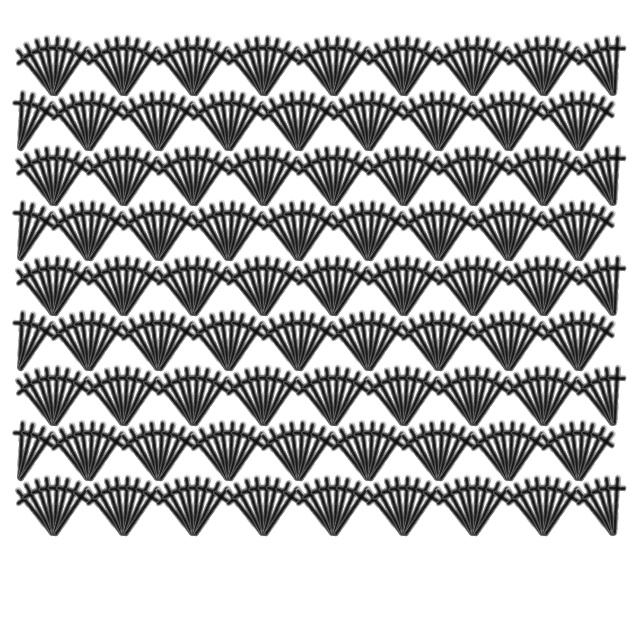enseble_chain: (3, 36, 68, 108), (40, 36, 105, 108), (73, 36, 138, 108), (110, 36, 175, 108), (143, 36, 208, 108), (180, 36, 245, 108), (213, 36, 278, 108), (250, 36, 315, 108), (283, 36, 348, 108), (320, 36, 385, 108), (353, 36, 418, 108), (390, 36, 455, 108), (423, 36, 488, 108), (460, 36, 525, 108), (493, 36, 558, 108), (530, 36, 595, 108), (563, 36, 628, 108), (5, 91, 70, 163), (38, 91, 103, 163), (75, 91, 140, 163), (108, 91, 173, 163), (145, 91, 210, 163), (178, 91, 243, 163), (215, 91, 280, 163), (248, 91, 313, 163), (285, 91, 350, 163), (318, 91, 383, 163), (355, 91, 420, 163), (388, 91, 453, 163), (425, 91, 490, 163), (458, 91, 523, 163), (495, 91, 560, 163), (528, 91, 593, 163), (565, 91, 630, 163), (3, 146, 68, 218), (40, 146, 105, 218), (73, 146, 138, 218), (110, 146, 175, 218), (143, 146, 208, 218), (180, 146, 245, 218), (213, 146, 278, 218), (250, 146, 315, 218), (283, 146, 348, 218), (320, 146, 385, 218), (353, 146, 418, 218), (390, 146, 455, 218), (423, 146, 488, 218), (460, 146, 525, 218), (493, 146, 558, 218), (530, 146, 595, 218), (563, 146, 628, 218), (5, 201, 70, 273), (38, 201, 103, 273), (75, 201, 140, 273), (108, 201, 173, 273), (145, 201, 210, 273), (178, 201, 243, 273), (215, 201, 280, 273), (248, 201, 313, 273), (285, 201, 350, 273), (318, 201, 383, 273), (355, 201, 420, 273), (388, 201, 453, 273), (425, 201, 490, 273), (458, 201, 523, 273), (495, 201, 560, 273), (528, 201, 593, 273), (565, 201, 630, 273), (3, 256, 68, 328), (40, 256, 105, 328), (73, 256, 138, 328), (110, 256, 175, 328), (143, 256, 208, 328), (180, 256, 245, 328), (213, 256, 278, 328), (250, 256, 315, 328), (283, 256, 348, 328), (320, 256, 385, 328), (353, 256, 418, 328), (390, 256, 455, 328), (423, 256, 488, 328), (460, 256, 525, 328), (493, 256, 558, 328), (530, 256, 595, 328), (563, 256, 628, 328), (5, 311, 70, 383), (38, 311, 103, 383), (75, 311, 140, 383), (108, 311, 173, 383), (145, 311, 210, 383), (178, 311, 243, 383), (215, 311, 280, 383), (248, 311, 313, 383), (285, 311, 350, 383), (318, 311, 383, 383), (355, 311, 420, 383), (388, 311, 453, 383), (425, 311, 490, 383), (458, 311, 523, 383), (495, 311, 560, 383), (528, 311, 593, 383), (565, 311, 630, 383), (3, 366, 68, 438), (40, 366, 105, 438), (73, 366, 138, 438), (110, 366, 175, 438), (143, 366, 208, 438), (180, 366, 245, 438), (213, 366, 278, 438), (250, 366, 315, 438), (283, 366, 348, 438), (320, 366, 385, 438), (353, 366, 418, 438), (390, 366, 455, 438), (423, 366, 488, 438), (460, 366, 525, 438), (493, 366, 558, 438), (530, 366, 595, 438), (563, 366, 628, 438), (5, 421, 70, 493), (38, 421, 103, 493), (75, 421, 140, 493), (108, 421, 173, 493), (145, 421, 210, 493), (178, 421, 243, 493), (215, 421, 280, 493), (248, 421, 313, 493), (285, 421, 350, 493), (318, 421, 383, 493), (355, 421, 420, 493), (388, 421, 453, 493), (425, 421, 490, 493), (458, 421, 523, 493), (495, 421, 560, 493), (528, 421, 593, 493), (565, 421, 630, 493), (3, 476, 68, 548), (40, 476, 105, 548), (73, 476, 138, 548), (110, 476, 175, 548), (143, 476, 208, 548), (180, 476, 245, 548), (213, 476, 278, 548), (250, 476, 315, 548), (283, 476, 348, 548), (320, 476, 385, 548), (353, 476, 418, 548), (390, 476, 455, 548), (423, 476, 488, 548), (460, 476, 525, 548), (493, 476, 558, 548), (530, 476, 595, 548), (563, 476, 628, 548), (11, 33, 70, 105), (38, 33, 97, 105), (81, 33, 140, 105), (108, 33, 167, 105), (151, 33, 210, 105), (178, 33, 237, 105), (221, 33, 280, 105), (248, 33, 307, 105), (291, 33, 350, 105), (318, 33, 377, 105), (361, 33, 420, 105), (388, 33, 447, 105), (431, 33, 490, 105), (458, 33, 517, 105), (501, 33, 560, 105), (528, 33, 587, 105), (571, 33, 630, 105), (3, 88, 62, 160), (46, 88, 105, 160), (73, 88, 132, 160), (116, 88, 175, 160), (143, 88, 202, 160), (186, 88, 245, 160), (213, 88, 272, 160), (256, 88, 315, 160), (283, 88, 342, 160), (326, 88, 385, 160), (353, 88, 412, 160), (396, 88, 455, 160), (423, 88, 482, 160), (466, 88, 525, 160), (493, 88, 552, 160), (536, 88, 595, 160), (563, 88, 622, 160), (11, 143, 70, 215), (38, 143, 97, 215), (81, 143, 140, 215), (108, 143, 167, 215), (151, 143, 210, 215), (178, 143, 237, 215), (221, 143, 280, 215), (248, 143, 307, 215), (291, 143, 350, 215), (318, 143, 377, 215), (361, 143, 420, 215), (388, 143, 447, 215), (431, 143, 490, 215), (458, 143, 517, 215), (501, 143, 560, 215), (528, 143, 587, 215), (571, 143, 630, 215), (3, 198, 62, 270), (46, 198, 105, 270), (73, 198, 132, 270), (116, 198, 175, 270), (143, 198, 202, 270), (186, 198, 245, 270), (213, 198, 272, 270), (256, 198, 315, 270), (283, 198, 342, 270), (326, 198, 385, 270), (353, 198, 412, 270), (396, 198, 455, 270), (423, 198, 482, 270), (466, 198, 525, 270), (493, 198, 552, 270), (536, 198, 595, 270), (563, 198, 622, 270), (11, 253, 70, 325), (38, 253, 97, 325), (81, 253, 140, 325), (108, 253, 167, 325), (151, 253, 210, 325), (178, 253, 237, 325), (221, 253, 280, 325), (248, 253, 307, 325), (291, 253, 350, 325), (318, 253, 377, 325), (361, 253, 420, 325), (388, 253, 447, 325), (431, 253, 490, 325), (458, 253, 517, 325), (501, 253, 560, 325), (528, 253, 587, 325), (571, 253, 630, 325), (3, 308, 62, 380), (46, 308, 105, 380), (73, 308, 132, 380), (116, 308, 175, 380), (143, 308, 202, 380), (186, 308, 245, 380), (213, 308, 272, 380), (256, 308, 315, 380), (283, 308, 342, 380), (326, 308, 385, 380), (353, 308, 412, 380), (396, 308, 455, 380), (423, 308, 482, 380), (466, 308, 525, 380), (493, 308, 552, 380), (536, 308, 595, 380), (563, 308, 622, 380), (11, 363, 70, 435), (38, 363, 97, 435), (81, 363, 140, 435), (108, 363, 167, 435), (151, 363, 210, 435), (178, 363, 237, 435), (221, 363, 280, 435), (248, 363, 307, 435), (291, 363, 350, 435), (318, 363, 377, 435), (361, 363, 420, 435), (388, 363, 447, 435), (431, 363, 490, 435), (458, 363, 517, 435), (501, 363, 560, 435), (528, 363, 587, 435), (571, 363, 630, 435), (3, 418, 62, 490), (46, 418, 105, 490), (73, 418, 132, 490), (116, 418, 175, 490), (143, 418, 202, 490), (186, 418, 245, 490), (213, 418, 272, 490), (256, 418, 315, 490), (283, 418, 342, 490), (326, 418, 385, 490), (353, 418, 412, 490), (396, 418, 455, 490), (423, 418, 482, 490), (466, 418, 525, 490), (493, 418, 552, 490), (536, 418, 595, 490), (563, 418, 622, 490), (11, 473, 70, 545), (38, 473, 97, 545), (81, 473, 140, 545), (108, 473, 167, 545), (151, 473, 210, 545), (178, 473, 237, 545), (221, 473, 280, 545), (248, 473, 307, 545), (291, 473, 350, 545), (318, 473, 377, 545), (361, 473, 420, 545), (388, 473, 447, 545), (431, 473, 490, 545), (458, 473, 517, 545), (501, 473, 560, 545), (528, 473, 587, 545), (571, 473, 630, 545), (20, 32, 71, 102), (37, 32, 88, 102), (90, 32, 141, 102), (107, 32, 158, 102), (160, 32, 211, 102), (177, 32, 228, 102), (230, 32, 281, 102), (247, 32, 298, 102), (300, 32, 351, 102), (317, 32, 368, 102), (370, 32, 421, 102), (387, 32, 438, 102), (440, 32, 491, 102), (457, 32, 508, 102), (510, 32, 561, 102), (527, 32, 578, 102), (580, 32, 631, 102), (2, 87, 53, 157), (55, 87, 106, 157), (72, 87, 123, 157), (125, 87, 176, 157), (142, 87, 193, 157), (195, 87, 246, 157), (212, 87, 263, 157), (265, 87, 316, 157), (282, 87, 333, 157), (335, 87, 386, 157), (352, 87, 403, 157), (405, 87, 456, 157), (422, 87, 473, 157), (475, 87, 526, 157), (492, 87, 543, 157), (545, 87, 596, 157), (562, 87, 613, 157), (20, 142, 71, 212), (37, 142, 88, 212), (90, 142, 141, 212), (107, 142, 158, 212), (160, 142, 211, 212), (177, 142, 228, 212), (230, 142, 281, 212), (247, 142, 298, 212), (300, 142, 351, 212), (317, 142, 368, 212), (370, 142, 421, 212), (387, 142, 438, 212), (440, 142, 491, 212), (457, 142, 508, 212), (510, 142, 561, 212), (527, 142, 578, 212), (580, 142, 631, 212), (2, 197, 53, 267), (55, 197, 106, 267), (72, 197, 123, 267), (125, 197, 176, 267), (142, 197, 193, 267), (195, 197, 246, 267), (212, 197, 263, 267), (265, 197, 316, 267), (282, 197, 333, 267), (335, 197, 386, 267), (352, 197, 403, 267), (405, 197, 456, 267), (422, 197, 473, 267), (475, 197, 526, 267), (492, 197, 543, 267), (545, 197, 596, 267), (562, 197, 613, 267), (20, 252, 71, 322), (37, 252, 88, 322), (90, 252, 141, 322), (107, 252, 158, 322), (160, 252, 211, 322), (177, 252, 228, 322), (230, 252, 281, 322), (247, 252, 298, 322), (300, 252, 351, 322), (317, 252, 368, 322), (370, 252, 421, 322), (387, 252, 438, 322), (440, 252, 491, 322), (457, 252, 508, 322), (510, 252, 561, 322), (527, 252, 578, 322), (580, 252, 631, 322), (2, 307, 53, 377), (55, 307, 106, 377), (72, 307, 123, 377), (125, 307, 176, 377), (142, 307, 193, 377), (195, 307, 246, 377), (212, 307, 263, 377), (265, 307, 316, 377), (282, 307, 333, 377), (335, 307, 386, 377), (352, 307, 403, 377), (405, 307, 456, 377), (422, 307, 473, 377), (475, 307, 526, 377), (492, 307, 543, 377), (545, 307, 596, 377), (562, 307, 613, 377), (20, 362, 71, 432), (37, 362, 88, 432), (90, 362, 141, 432), (107, 362, 158, 432), (160, 362, 211, 432), (177, 362, 228, 432), (230, 362, 281, 432), (247, 362, 298, 432), (300, 362, 351, 432), (317, 362, 368, 432), (370, 362, 421, 432), (387, 362, 438, 432), (440, 362, 491, 432), (457, 362, 508, 432), (510, 362, 561, 432), (527, 362, 578, 432), (580, 362, 631, 432), (2, 417, 53, 487), (55, 417, 106, 487), (72, 417, 123, 487), (125, 417, 176, 487), (142, 417, 193, 487), (195, 417, 246, 487), (212, 417, 263, 487), (265, 417, 316, 487), (282, 417, 333, 487), (335, 417, 386, 487), (352, 417, 403, 487), (405, 417, 456, 487), (422, 417, 473, 487), (475, 417, 526, 487), (492, 417, 543, 487), (545, 417, 596, 487), (562, 417, 613, 487), (20, 472, 71, 542), (37, 472, 88, 542), (90, 472, 141, 542), (107, 472, 158, 542), (160, 472, 211, 542), (177, 472, 228, 542), (230, 472, 281, 542), (247, 472, 298, 542), (300, 472, 351, 542), (317, 472, 368, 542), (370, 472, 421, 542), (387, 472, 438, 542), (440, 472, 491, 542), (457, 472, 508, 542), (510, 472, 561, 542), (527, 472, 578, 542), (580, 472, 631, 542), (30, 34, 72, 99), (36, 34, 78, 99), (100, 34, 142, 99), (106, 34, 148, 99), (170, 34, 212, 99), (176, 34, 218, 99), (240, 34, 282, 99), (246, 34, 288, 99), (310, 34, 352, 99), (316, 34, 358, 99), (380, 34, 422, 99), (386, 34, 428, 99), (450, 34, 492, 99), (456, 34, 498, 99), (520, 34, 562, 99), (526, 34, 568, 99), (590, 34, 632, 99), (596, 34, 638, 99), (1, 89, 43, 154), (65, 89, 107, 154), (71, 89, 113, 154), (135, 89, 177, 154), (141, 89, 183, 154), (205, 89, 247, 154), (211, 89, 253, 154), (275, 89, 317, 154), (281, 89, 323, 154), (345, 89, 387, 154), (351, 89, 393, 154), (415, 89, 457, 154), (421, 89, 463, 154), (485, 89, 527, 154), (491, 89, 533, 154), (555, 89, 597, 154), (561, 89, 603, 154), (30, 144, 72, 209), (36, 144, 78, 209), (100, 144, 142, 209), (106, 144, 148, 209), (170, 144, 212, 209), (176, 144, 218, 209), (240, 144, 282, 209), (246, 144, 288, 209), (310, 144, 352, 209), (316, 144, 358, 209), (380, 144, 422, 209), (386, 144, 428, 209), (450, 144, 492, 209), (456, 144, 498, 209), (520, 144, 562, 209), (526, 144, 568, 209), (590, 144, 632, 209), (596, 144, 638, 209), (1, 199, 43, 264), (65, 199, 107, 264), (71, 199, 113, 264), (135, 199, 177, 264), (141, 199, 183, 264), (205, 199, 247, 264), (211, 199, 253, 264), (275, 199, 317, 264), (281, 199, 323, 264), (345, 199, 387, 264), (351, 199, 393, 264), (415, 199, 457, 264), (421, 199, 463, 264), (485, 199, 527, 264), (491, 199, 533, 264), (555, 199, 597, 264), (561, 199, 603, 264), (30, 254, 72, 319), (36, 254, 78, 319), (100, 254, 142, 319), (106, 254, 148, 319), (170, 254, 212, 319), (176, 254, 218, 319), (240, 254, 282, 319), (246, 254, 288, 319), (310, 254, 352, 319), (316, 254, 358, 319), (380, 254, 422, 319), (386, 254, 428, 319), (450, 254, 492, 319), (456, 254, 498, 319), (520, 254, 562, 319), (526, 254, 568, 319), (590, 254, 632, 319), (596, 254, 638, 319), (1, 309, 43, 374), (65, 309, 107, 374), (71, 309, 113, 374), (135, 309, 177, 374), (141, 309, 183, 374), (205, 309, 247, 374), (211, 309, 253, 374), (275, 309, 317, 374), (281, 309, 323, 374), (345, 309, 387, 374), (351, 309, 393, 374), (415, 309, 457, 374), (421, 309, 463, 374), (485, 309, 527, 374), (491, 309, 533, 374), (555, 309, 597, 374), (561, 309, 603, 374), (30, 364, 72, 429), (36, 364, 78, 429), (100, 364, 142, 429), (106, 364, 148, 429), (170, 364, 212, 429), (176, 364, 218, 429), (240, 364, 282, 429), (246, 364, 288, 429), (310, 364, 352, 429), (316, 364, 358, 429), (380, 364, 422, 429), (386, 364, 428, 429), (450, 364, 492, 429), (456, 364, 498, 429), (520, 364, 562, 429), (526, 364, 568, 429), (590, 364, 632, 429), (596, 364, 638, 429), (1, 419, 43, 484), (65, 419, 107, 484), (71, 419, 113, 484), (135, 419, 177, 484), (141, 419, 183, 484), (205, 419, 247, 484), (211, 419, 253, 484), (275, 419, 317, 484), (281, 419, 323, 484), (345, 419, 387, 484), (351, 419, 393, 484), (415, 419, 457, 484), (421, 419, 463, 484), (485, 419, 527, 484), (491, 419, 533, 484), (555, 419, 597, 484), (561, 419, 603, 484), (30, 474, 72, 539), (36, 474, 78, 539), (100, 474, 142, 539), (106, 474, 148, 539), (170, 474, 212, 539), (176, 474, 218, 539), (240, 474, 282, 539), (246, 474, 288, 539), (310, 474, 352, 539), (316, 474, 358, 539), (380, 474, 422, 539), (386, 474, 428, 539), (450, 474, 492, 539), (456, 474, 498, 539), (520, 474, 562, 539), (526, 474, 568, 539), (590, 474, 632, 539), (596, 474, 638, 539)
